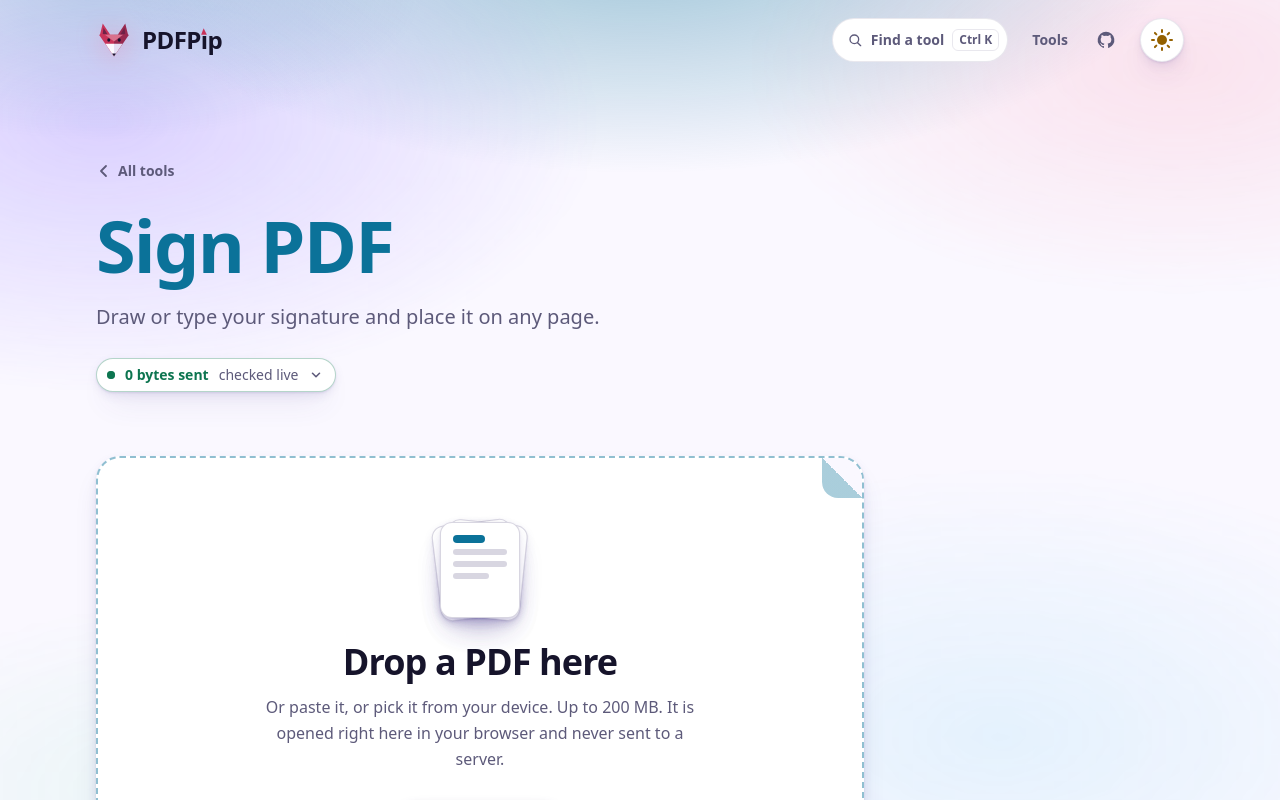
navigation › comes back home from the header wordmark
Click the link with aria-label "pdfpip, home" at (159, 40), box 96,22 -> 222,58
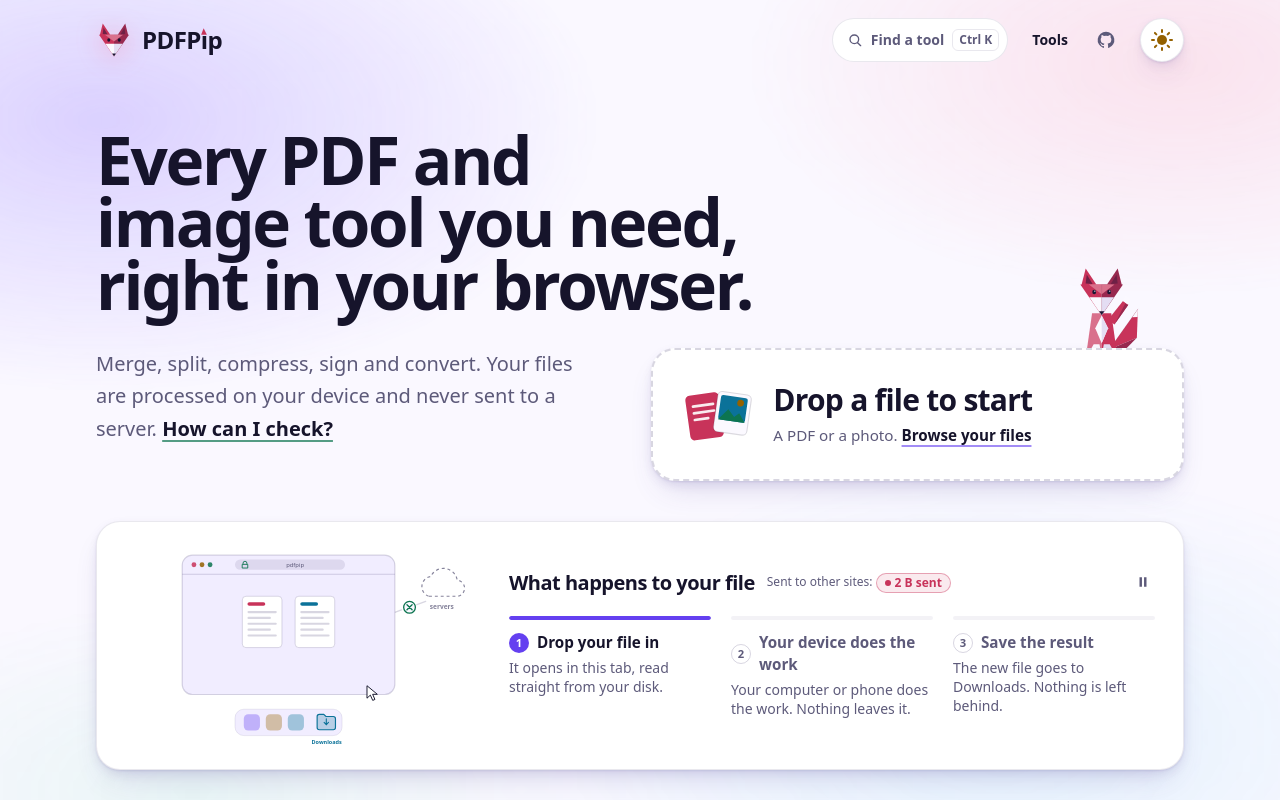
Expected: the heading "Every PDF and image tool you need, right in your browser." is shown, 96,115 -> 752,329
